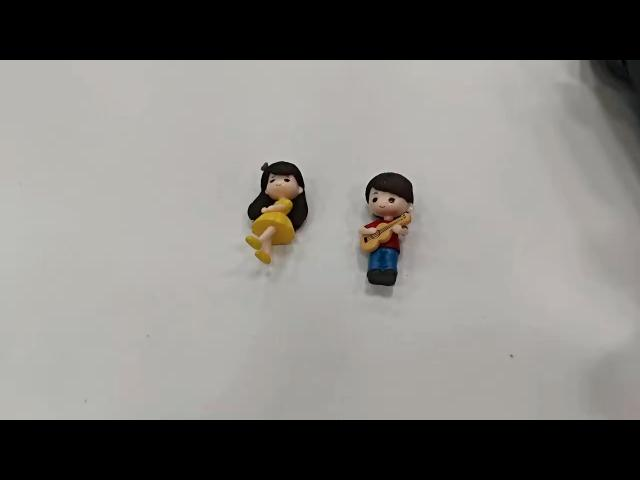man: (356, 168, 418, 288)
woman: (247, 158, 311, 268)
